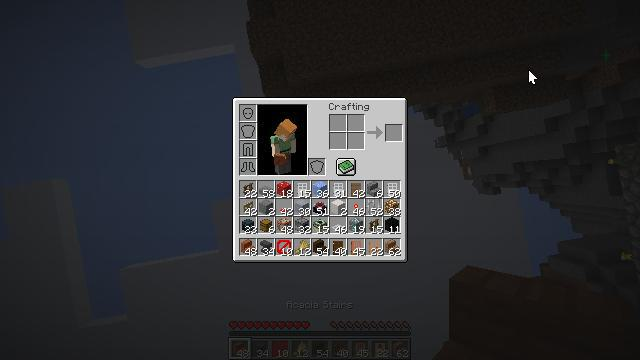cursor: (528, 69, 538, 85)
